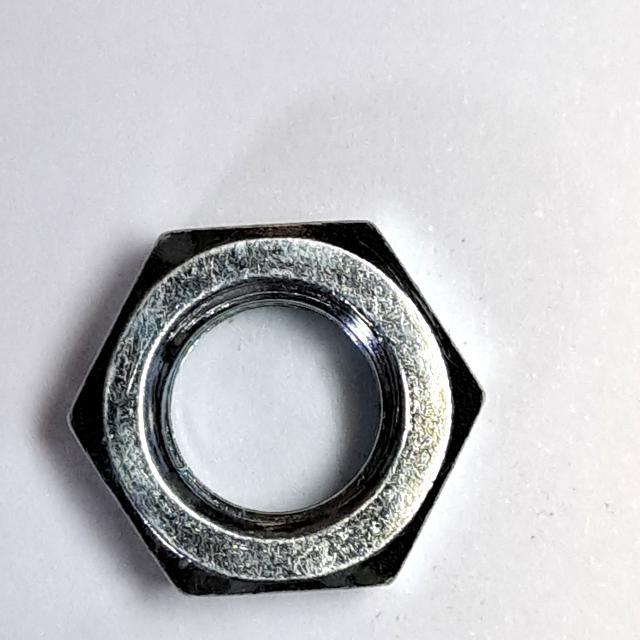Excellent: (60, 211, 496, 607)
